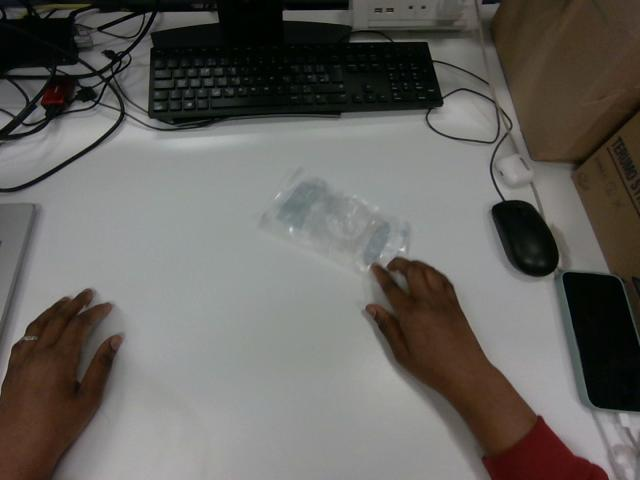gallipot: (260, 171, 409, 271)
